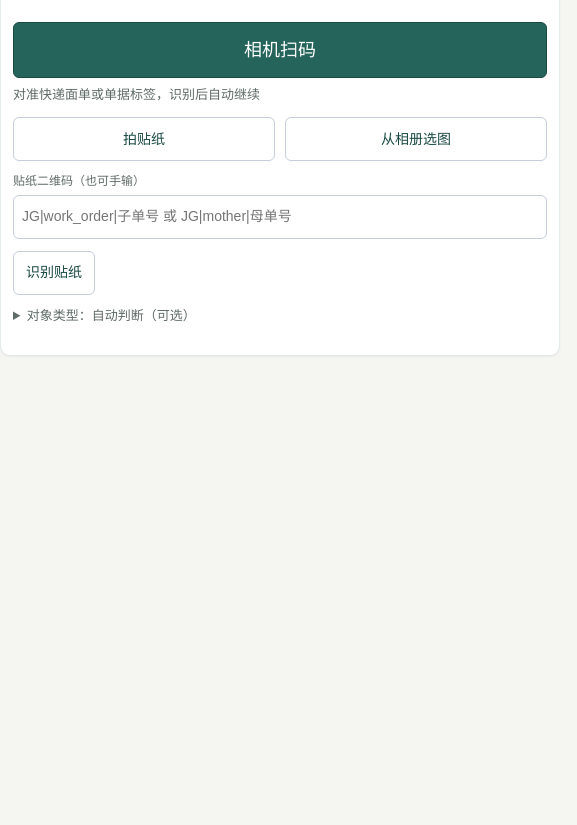
Test: 质检面板 › 复检成功后立即关闭本轮提交，刷新失败也不会自动放行或再次复检
Step 1. Type "JG|work_order|ZD-100" into the field named "质检贴纸" → coordinates (280, 217), box [13,195,547,239]
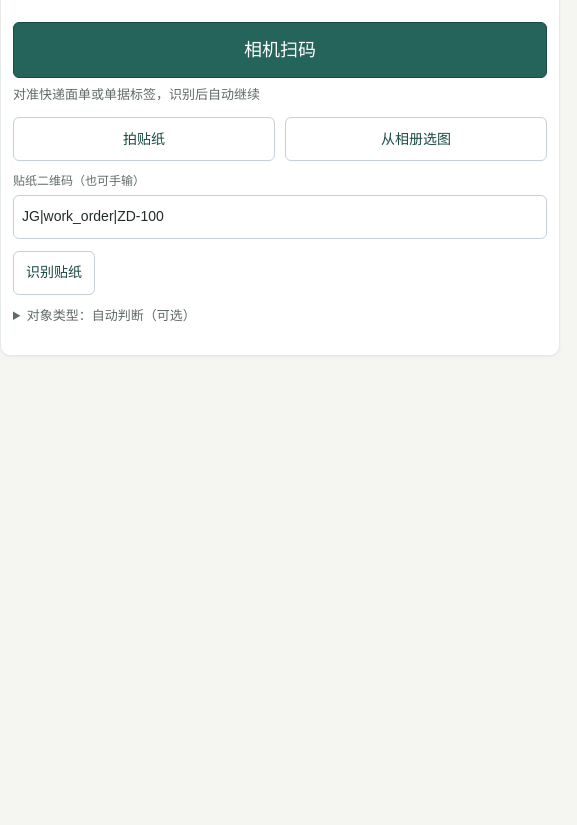
Step 2. Click the button with aria-label "识别质检贴纸" → coordinates (54, 273), box [13,251,95,295]
(page scrolled)
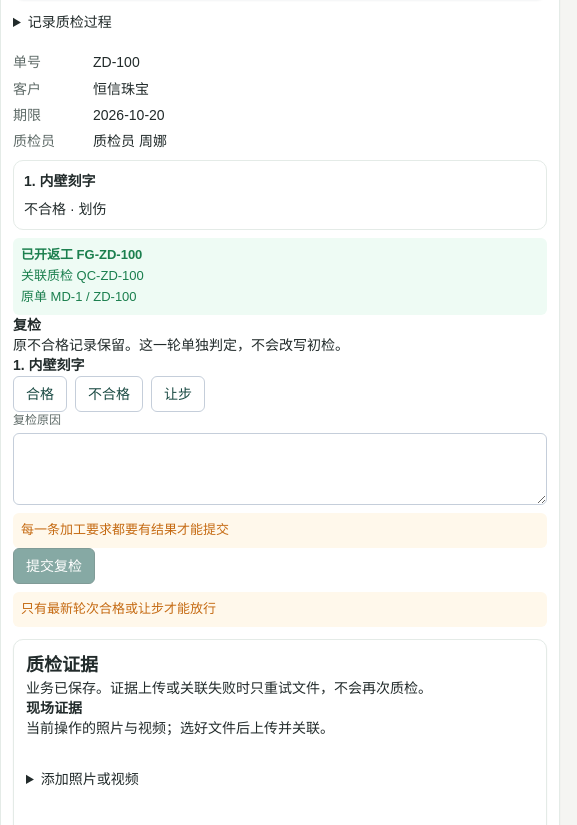
Step 3. Click the button with aria-label "复检合格 1" → coordinates (40, 394), box [13,376,67,412]
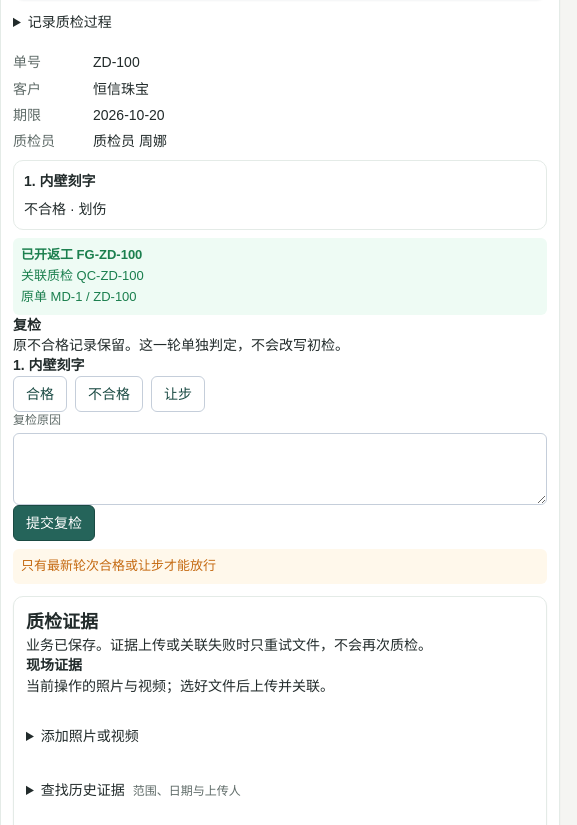
Step 4. Click the button with aria-label "提交复检" → coordinates (54, 523), box [13,505,95,541]
(page scrolled)
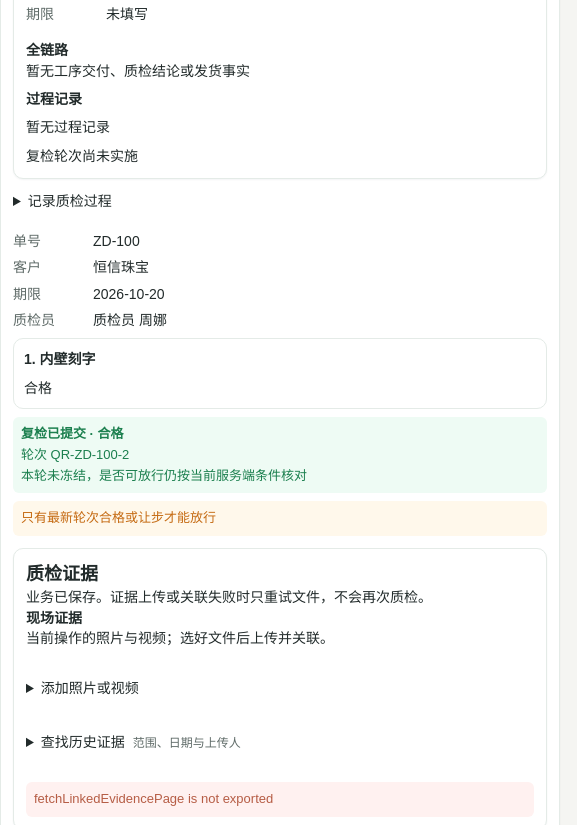
Expected: the text "复检已提交 · 合格" is shown, [21,426,124,441]
